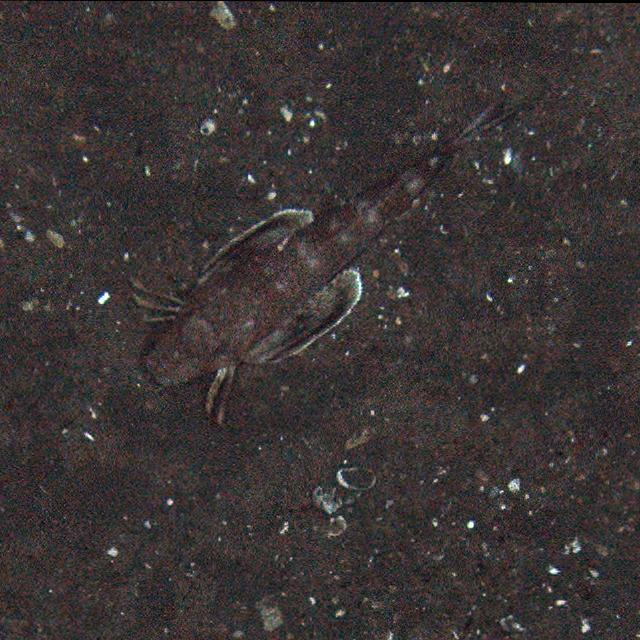roundfish: (131, 100, 519, 424)
